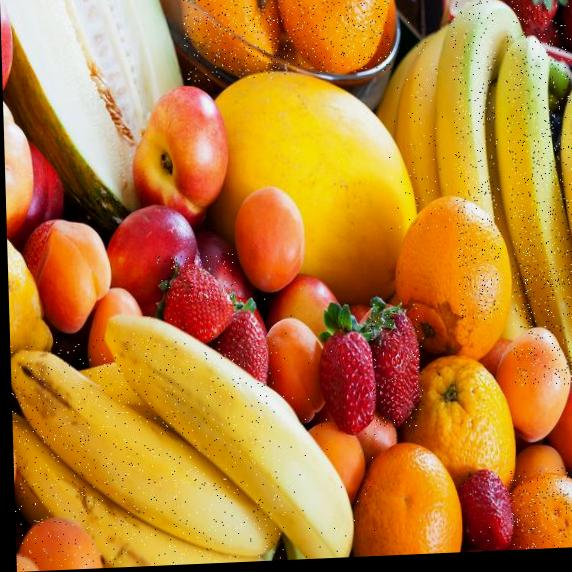Banana: (104, 295, 378, 568), (10, 332, 284, 570), (504, 25, 572, 388), (450, 0, 503, 321), (383, 20, 452, 230), (559, 68, 572, 373)
Orange: (277, 0, 392, 76), (183, 0, 284, 81), (510, 467, 572, 550)
Strawberry: (317, 297, 381, 442), (365, 298, 427, 428), (157, 253, 238, 343), (459, 464, 518, 552), (222, 298, 276, 386), (511, 0, 561, 36)
